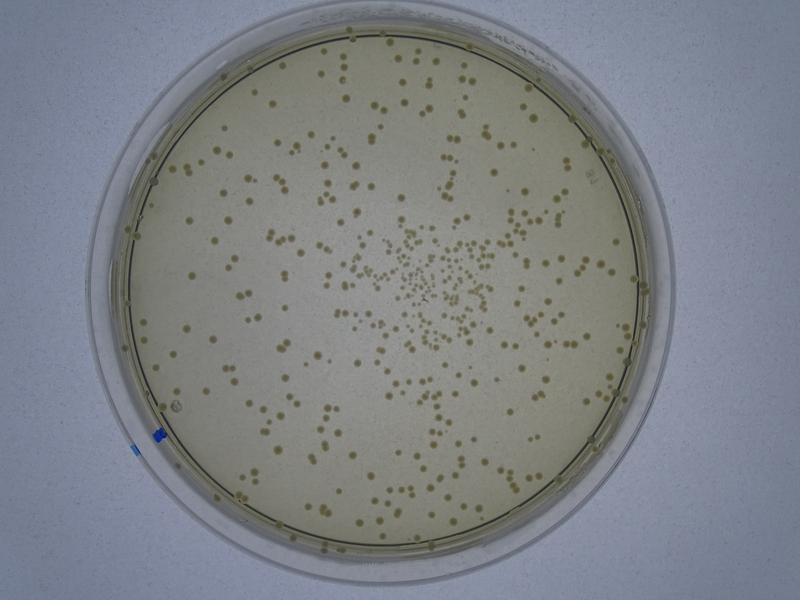colony: (180, 322, 193, 335), (487, 166, 500, 178), (519, 185, 531, 197), (305, 129, 317, 141), (353, 357, 363, 371), (556, 252, 566, 266), (468, 379, 482, 389), (347, 449, 358, 461), (366, 179, 377, 191), (610, 235, 620, 248), (274, 444, 284, 457), (303, 500, 312, 514), (272, 137, 283, 148), (341, 93, 352, 104), (516, 362, 527, 373), (201, 386, 212, 397), (219, 187, 230, 198), (396, 77, 408, 87), (219, 122, 231, 132), (461, 90, 470, 103), (168, 348, 178, 359), (504, 406, 515, 416), (553, 276, 564, 286), (493, 374, 503, 385), (335, 219, 347, 228), (296, 247, 305, 259), (208, 333, 217, 345), (245, 194, 253, 207), (268, 98, 278, 108), (351, 161, 361, 171), (229, 377, 239, 387), (363, 308, 373, 318), (376, 121, 387, 130), (138, 317, 147, 327), (366, 227, 375, 237), (211, 235, 219, 246), (314, 349, 322, 360), (383, 392, 394, 400), (518, 283, 527, 292), (396, 193, 406, 201), (223, 216, 233, 224), (280, 373, 290, 381), (188, 271, 197, 279), (184, 217, 193, 225), (319, 162, 329, 169), (282, 302, 288, 311)
